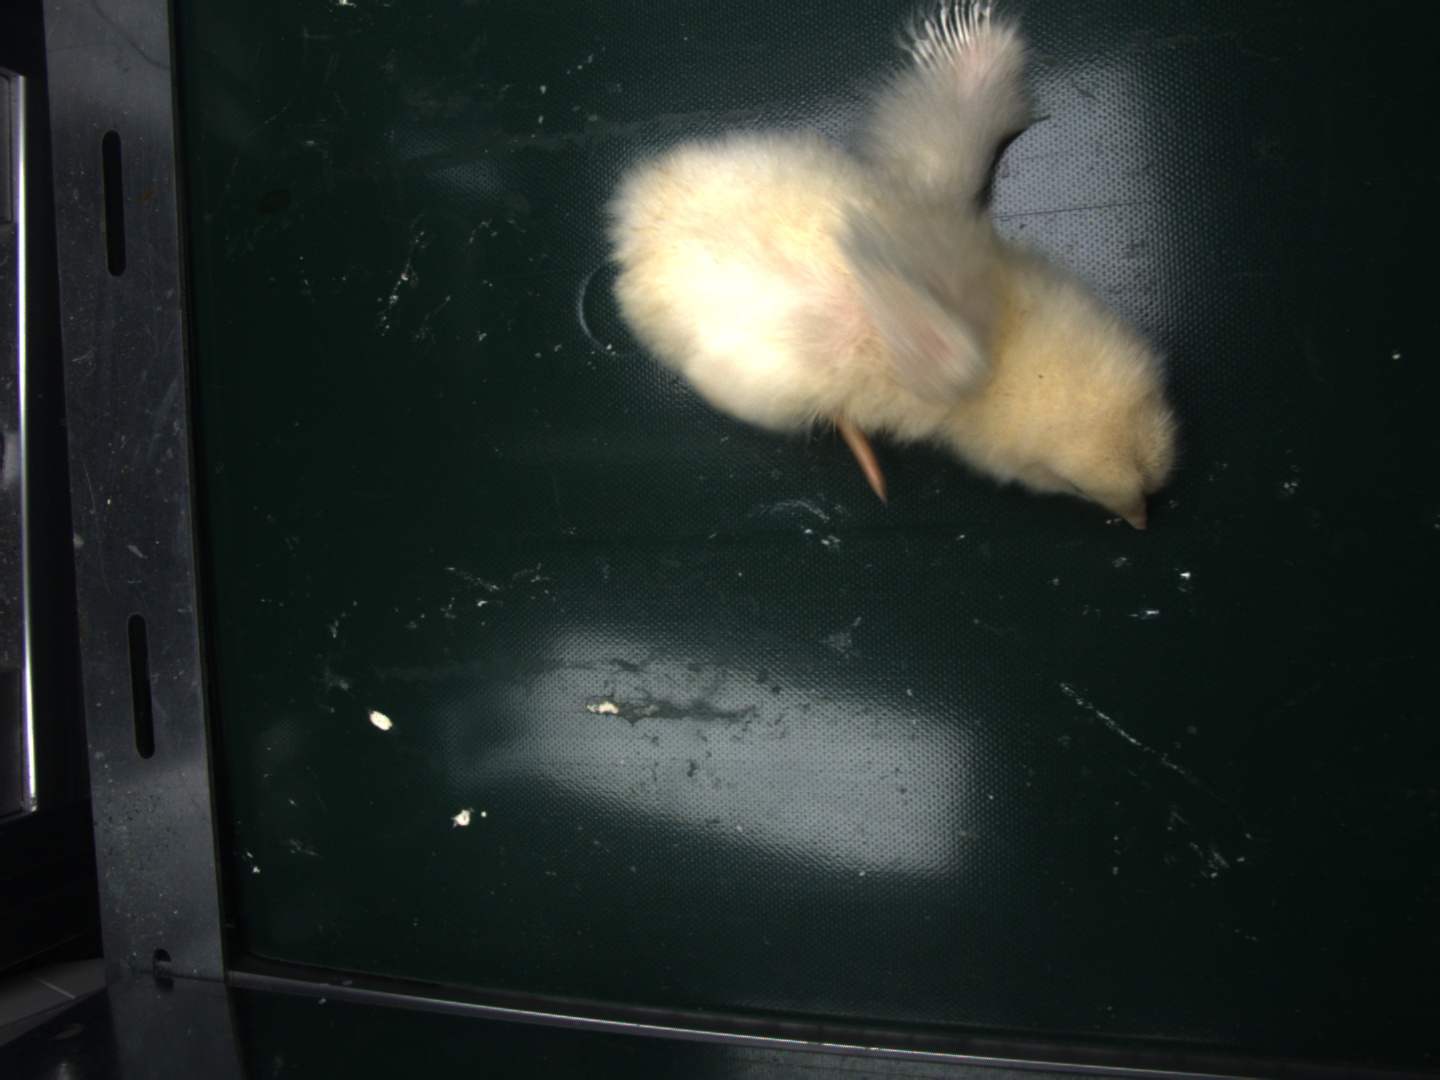male: (914, 1, 994, 71)
